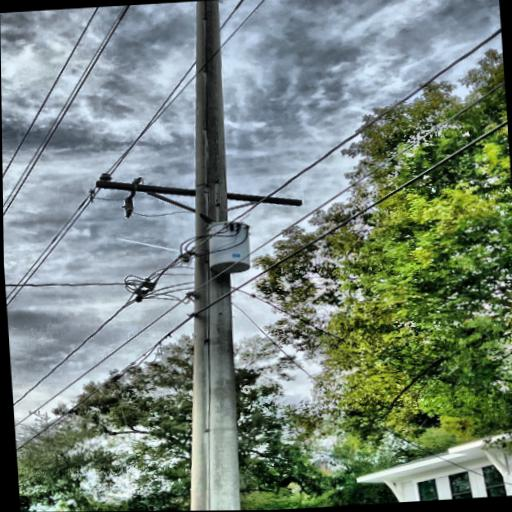pole: (128, 0, 272, 511)
transformer: (204, 218, 255, 277)
